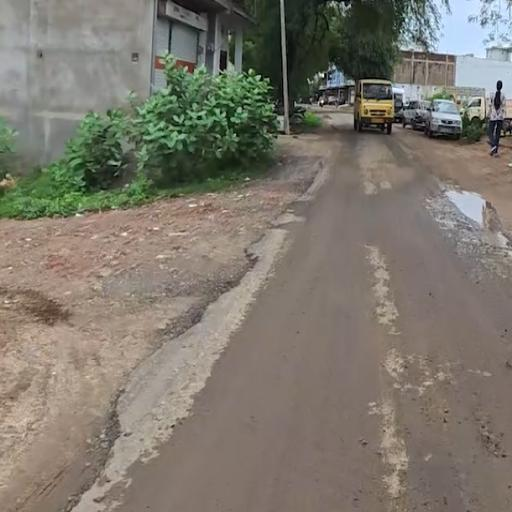edge_damage: (152, 208, 283, 348), (50, 362, 160, 500)
